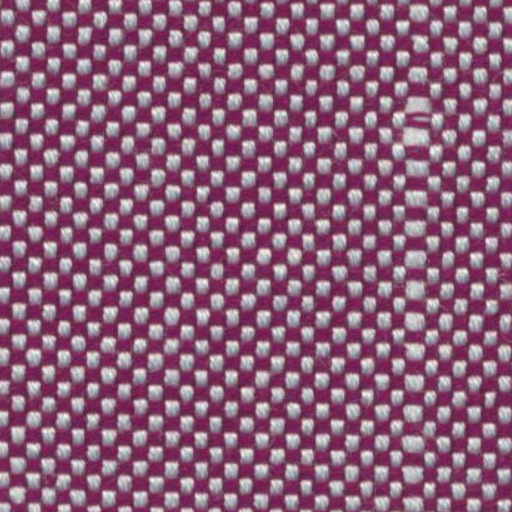DaiSha: (390, 10, 448, 483)
